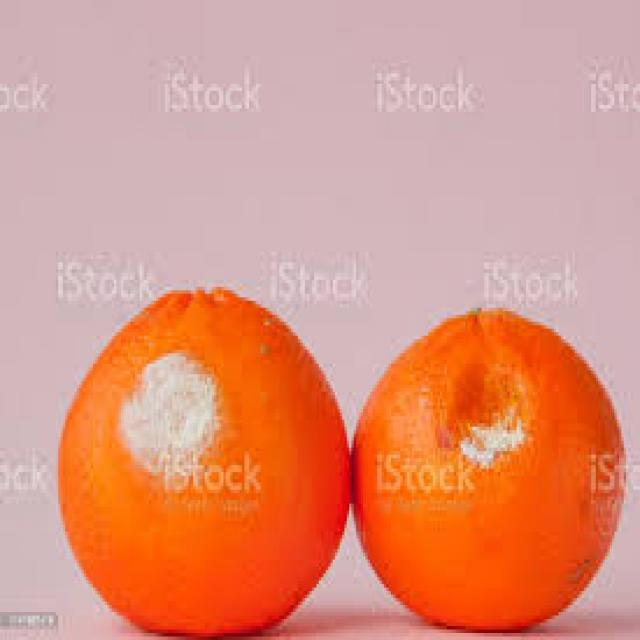organic waste: (56, 284, 351, 636), (349, 304, 624, 630)
